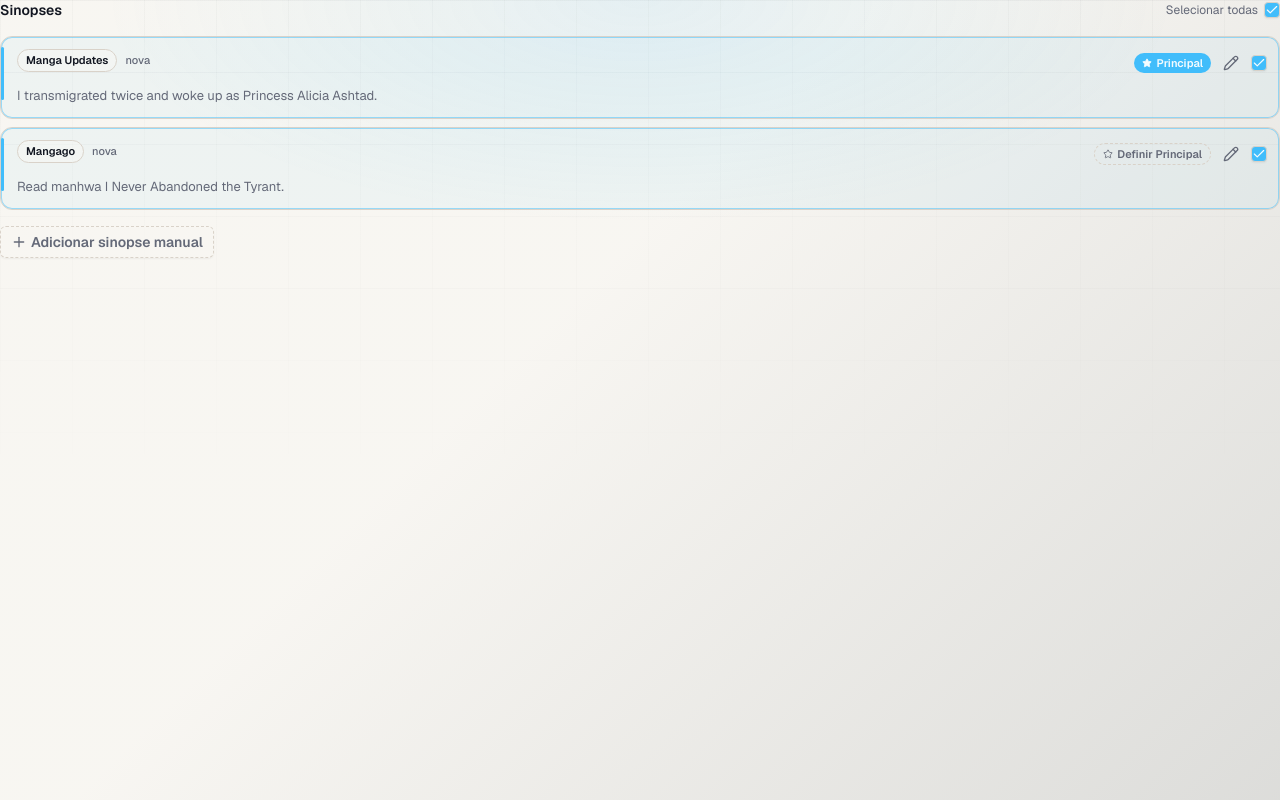
Test: SynopsisPicker — editar o texto › clicar no card alterna a inclusão, e clicar no lápis não
This screenshot has width=1280, height=800.
Click the checkbox named "Incluir a sinopse de" at point(640, 169), box [0, 127, 1279, 210]
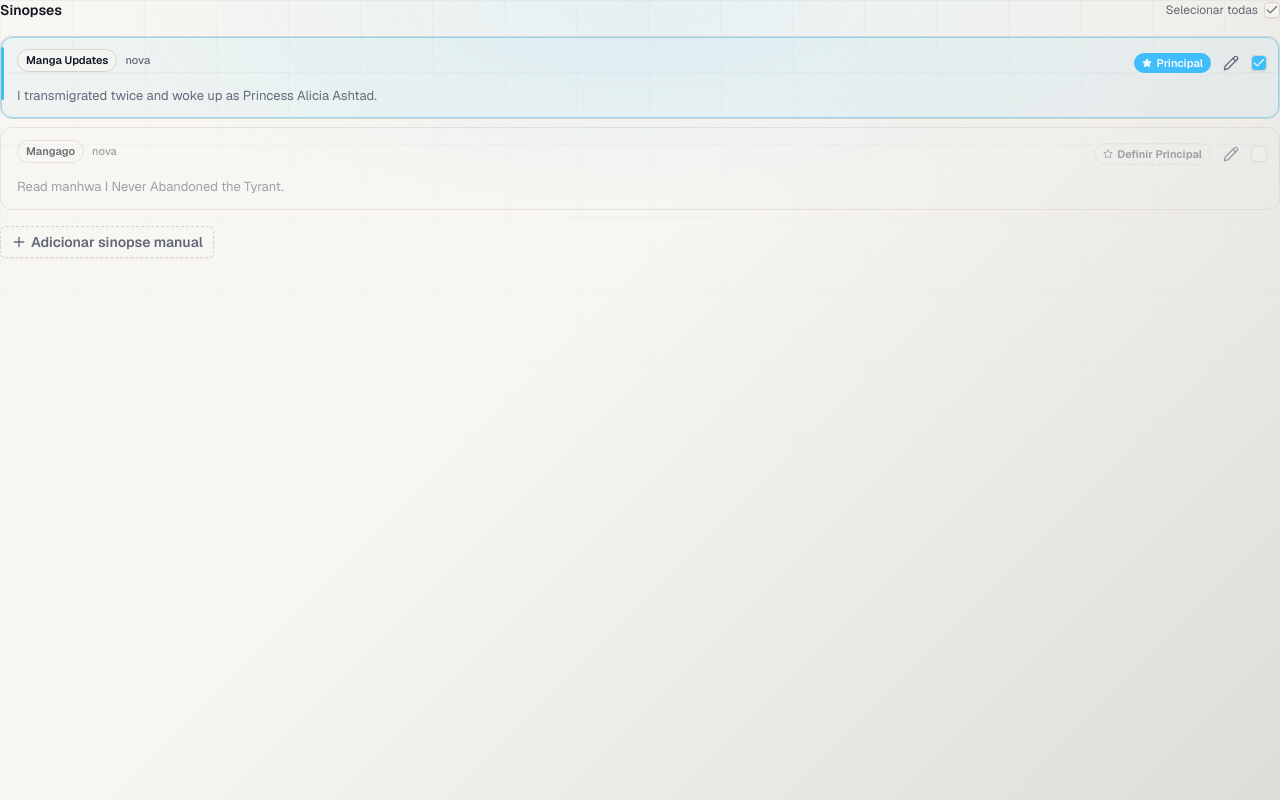
O lápis abre o editor sem alterar a seleção do card que o contém.
Click the button named "Editar o texto" at point(1231, 63), box [1217, 49, 1245, 77]
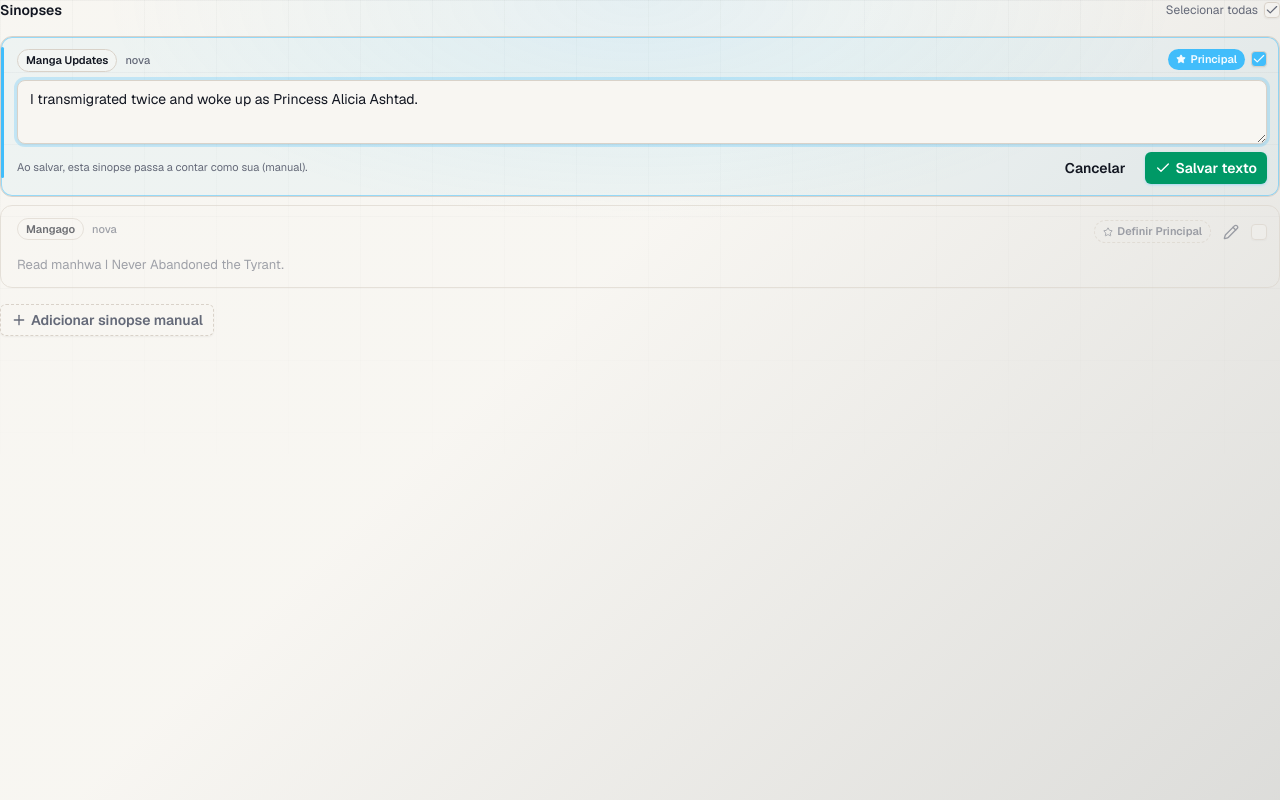
expect the text box is shown: met, box [17, 80, 1267, 144]
